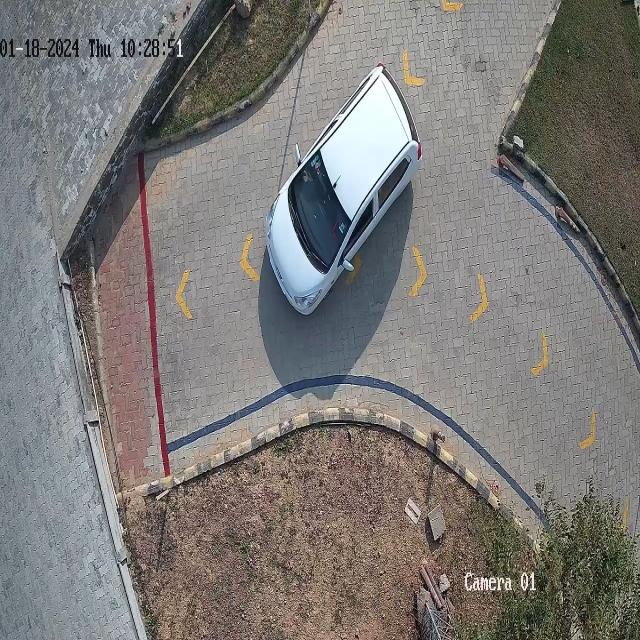car: (265, 64, 421, 316)
